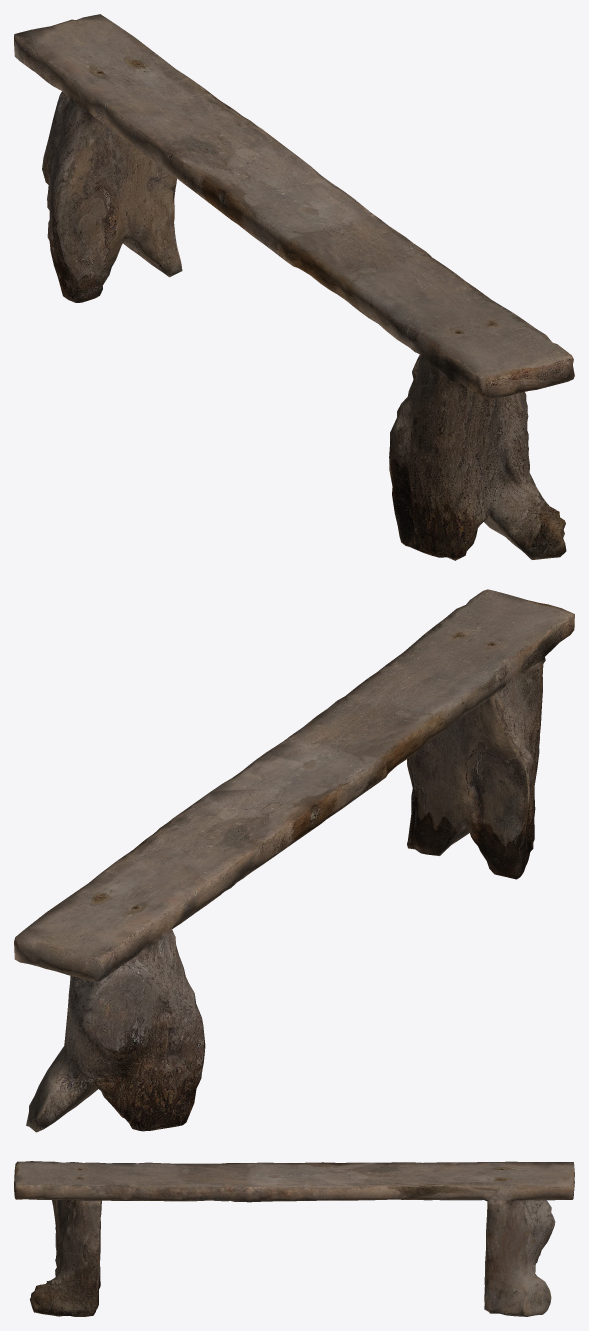
Rendered from bench.glb.
The picture shows the model from 3 angles, top to bottom: view 1: azimuth 30°, elevation 25°; view 2: azimuth 150°, elevation 25°; view 3: azimuth 270°, elevation 25°; orthographic projection. The views are drawn at different scales.
Visible parts, largest first — view 1: bench_S_Old_Wooden_Bench_uchpfjefa_lod6_LOD0; view 2: bench_S_Old_Wooden_Bench_uchpfjefa_lod6_LOD0; view 3: bench_S_Old_Wooden_Bench_uchpfjefa_lod6_LOD0.
Part boxes in pixels (left/top/right/bottom): bench_S_Old_Wooden_Bench_uchpfjefa_lod6_LOD0: left=14, top=14, right=574, bottom=560; bench_S_Old_Wooden_Bench_uchpfjefa_lod6_LOD0: left=14, top=589, right=574, bottom=1132; bench_S_Old_Wooden_Bench_uchpfjefa_lod6_LOD0: left=14, top=1161, right=574, bottom=1316.
Size of the model in its own units: 0.4481 by 0.6563 by 2.6.
Materials: 1 (1 with a texture image).
